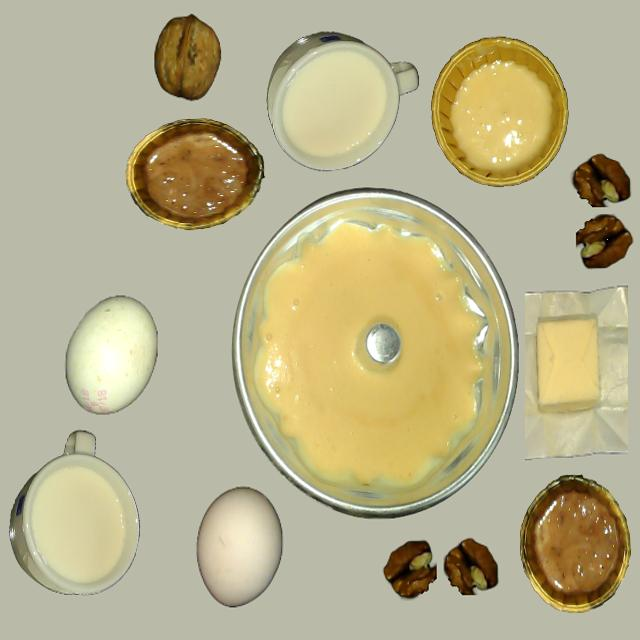Milk: (279, 45, 392, 160), (31, 464, 129, 585)
Walnut: (151, 13, 224, 104)
